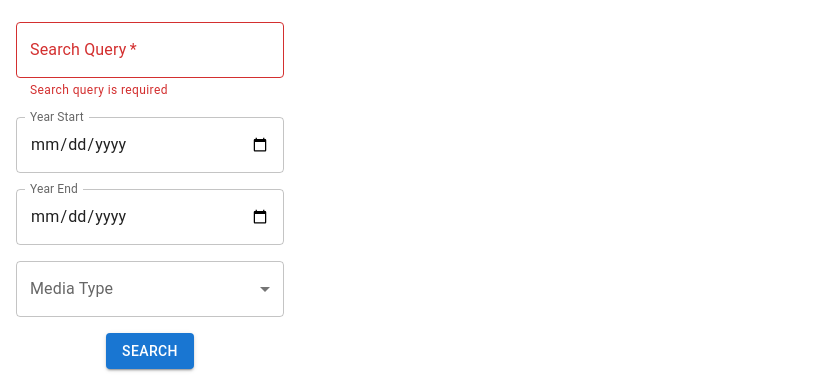
Scenario: MediaLibrary Component › displays error message on request failure
The image size is (823, 389).
Note: Simulate entering a search query
Type "test" into the field labelled "Search Query *" at (150, 50), box 16,22 -> 284,78
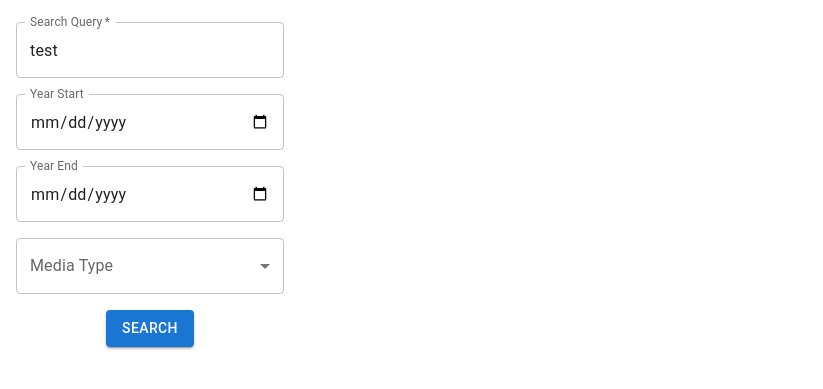
Click the button "Search" at (150, 328), box 106,310 -> 194,346
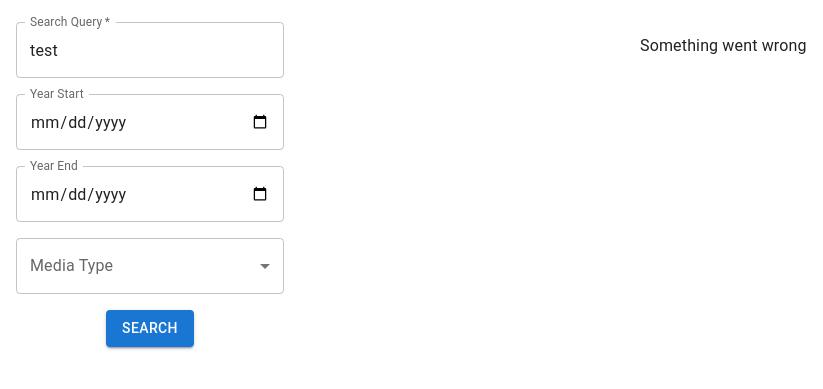
expect the text "Something went wrong" is shown: met, box 640,34 -> 807,58
